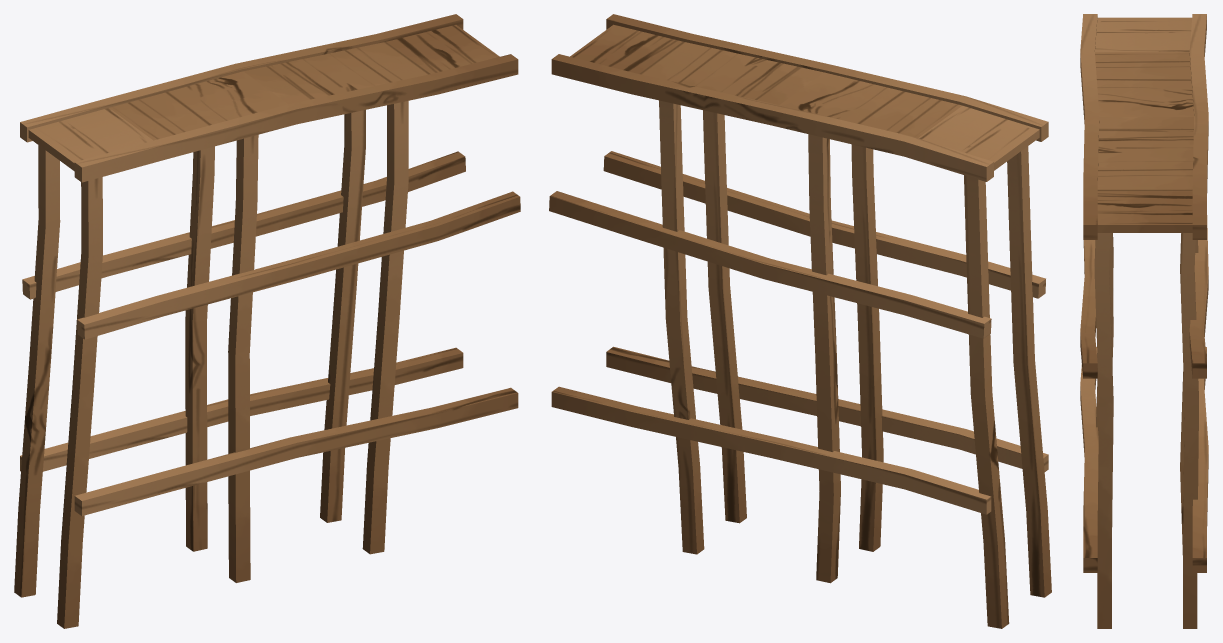
File: Deck_Tall.fbx
3 views of the same model, side by side, from view 1: azimuth 30°, elevation 25°; view 2: azimuth 150°, elevation 25°; view 3: azimuth 270°, elevation 25° (orthographic).
Visible parts, largest first — view 1: Deck; view 2: Deck; view 3: Deck.
Part boxes in pixels (x1,y1,x2,y2): Deck: (14,14,520,628); Deck: (549,14,1051,628); Deck: (1080,14,1208,628).
Bounding box in the file's own units: 8.61 × 8.6 × 2.13.
Materials: 1 (1 with a texture image).
